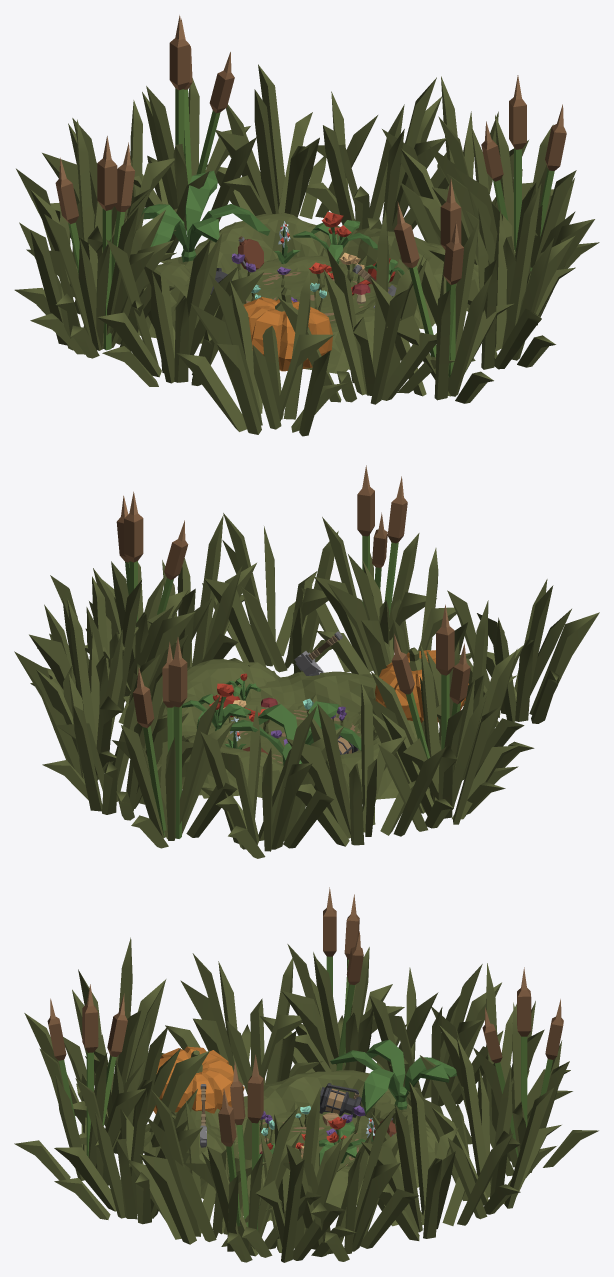
The picture shows the model from 3 angles, top to bottom: view 1: azimuth 30°, elevation 25°; view 2: azimuth 150°, elevation 25°; view 3: azimuth 270°, elevation 25°; orthographic projection. The views are drawn at different scales.
Visible parts, largest first — view 1: SM_Env_Reeds_03.001, SM_Env_Reeds_02.002, SM_Env_Reeds_03, SM_Env_Reeds_03.002, SM_Env_Reeds_02, SM_Env_Reeds_03.006, SM_Env_Reeds_02.003, SM_Env_Reeds_03.003, SM_Env_Reeds_03.004, SM_Env_Reeds_02.001, SM_Env_Reeds_03.009, SM_Env_Reeds_03.007 (+14 smaller); view 2: SM_Env_Reeds_02.003, SM_Env_Reeds_03.011, SM_Env_Reeds_03.010, SM_Env_Reeds_03.006, SM_Env_Reeds_03.009, SM_Env_Reeds_02.002, SM_Env_Reeds_03.001, SM_Env_Reeds_02, SM_Env_Reeds_03.004, SM_Env_Reeds_03.003, SM_Env_Reeds_03.002, SM_Env_Reeds_02.001 (+13 smaller); view 3: SM_Env_Reeds_03.003, SM_Env_Reeds_03.004, SM_Env_Reeds_02.001, SM_Env_Reeds_03, SM_Env_Reeds_03.007, SM_Env_Reeds_02.002, SM_Env_Reeds_03.006, SM_Env_Reeds_03.008, SM_Env_Reeds_03.005, SM_Env_Reeds_02.003, SM_Env_Reeds_02, SM_Env_Reeds_03.010 (+13 smaller).
Boxes of the visible parts, x1=… form: SM_Env_Reeds_03.001: x1=176, y1=270, x2=349, y2=436; SM_Env_Reeds_02.002: x1=370, y1=179, x2=514, y2=403; SM_Env_Reeds_03: x1=97, y1=233, x2=264, y2=386; SM_Env_Reeds_03.002: x1=278, y1=210, x2=455, y2=404; SM_Env_Reeds_02: x1=30, y1=136, x2=173, y2=354; SM_Env_Reeds_03.006: x1=418, y1=183, x2=575, y2=369; SM_Env_Reeds_02.003: x1=133, y1=15, x2=256, y2=230; SM_Env_Reeds_03.003: x1=206, y1=64, x2=377, y2=218; SM_Env_Reeds_03.004: x1=306, y1=77, x2=448, y2=231; SM_Env_Reeds_02.001: x1=454, y1=75, x2=599, y2=275; SM_Env_Reeds_03.009: x1=14, y1=190, x2=174, y2=358; SM_Env_Reeds_03.007: x1=429, y1=174, x2=594, y2=325; SM_Env_Reeds_02.003: x1=112, y1=637, x2=237, y2=848; SM_Env_Reeds_03.011: x1=200, y1=706, x2=343, y2=858; SM_Env_Reeds_03.010: x1=284, y1=684, x2=446, y2=846; SM_Env_Reeds_03.006: x1=202, y1=513, x2=338, y2=673; SM_Env_Reeds_03.009: x1=368, y1=644, x2=519, y2=831; SM_Env_Reeds_02.002: x1=301, y1=465, x2=436, y2=672; SM_Env_Reeds_03.001: x1=447, y1=579, x2=599, y2=727; SM_Env_Reeds_02: x1=373, y1=604, x2=505, y2=814; SM_Env_Reeds_03.004: x1=14, y1=599, x2=167, y2=780; SM_Env_Reeds_03.003: x1=42, y1=658, x2=193, y2=820; SM_Env_Reeds_03.002: x1=316, y1=548, x2=471, y2=676; SM_Env_Reeds_02.001: x1=84, y1=491, x2=211, y2=695; SM_Env_Reeds_03.003: x1=408, y1=1038, x2=561, y2=1219; SM_Env_Reeds_03.004: x1=361, y1=1081, x2=513, y2=1240; SM_Env_Reeds_02.001: x1=183, y1=1054, x2=321, y2=1262; SM_Env_Reeds_03: x1=165, y1=953, x2=322, y2=1094; SM_Env_Reeds_03.007: x1=129, y1=1089, x2=272, y2=1251; SM_Env_Reeds_02.002: x1=14, y1=984, x2=145, y2=1185; SM_Env_Reeds_03.006: x1=54, y1=1078, x2=202, y2=1224; SM_Env_Reeds_03.008: x1=201, y1=1087, x2=356, y2=1262; SM_Env_Reeds_03.005: x1=279, y1=1106, x2=418, y2=1261; SM_Env_Reeds_02.003: x1=461, y1=967, x2=598, y2=1176; SM_Env_Reeds_02: x1=260, y1=887, x2=404, y2=1072; SM_Env_Reeds_03.010: x1=369, y1=964, x2=502, y2=1106.
Bounding box in the file's own units: 343 × 138 × 372.
52 materials, 52 textured.
